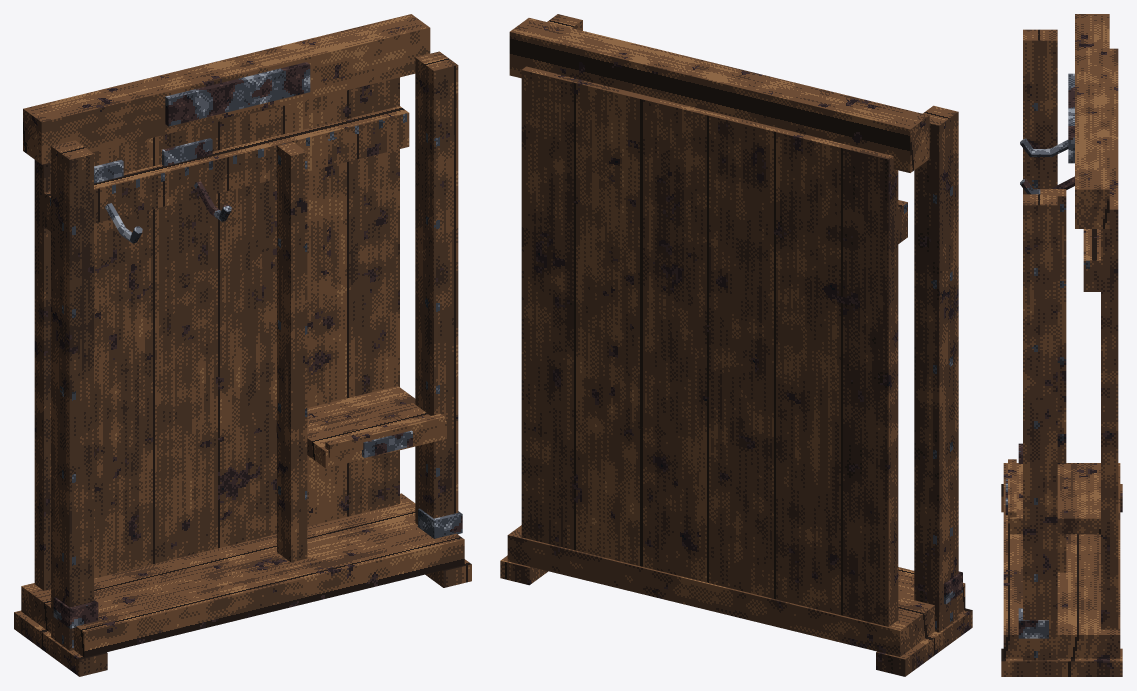
File: SM_Prop_LobbyToolStand_01.glb
The picture shows the model from 3 angles, left to right: view 1: azimuth 30°, elevation 25°; view 2: azimuth 150°, elevation 25°; view 3: azimuth 270°, elevation 25°; orthographic projection. The views are drawn at different scales.
Parts seen in each view (by area): view 1: back_boards, base_shelf, post_0, top_rail, post_1, divider_post, mount_board, bucket_shelf, iron_sign, skid_0, lip_rail, iron_foot_0 (+4 smaller); view 2: back_boards, post_0, top_rail, base_shelf, skid_0, skid_1; view 3: post_1, back_boards, base_shelf, top_rail, post_0, bucket_shelf, divider_post, skid_1, mount_board, iron_foot_1, iron_sign, lip_rail (+2 smaller).
Part boxes in pixels (<box>): back_boards: <box>34,77,399,590</box>; base_shelf: <box>21,493,464,657</box>; post_0: <box>51,140,93,650</box>; top_rail: <box>23,14,430,164</box>; post_1: <box>415,51,458,524</box>; divider_post: <box>277,142,307,562</box>; mount_board: <box>44,106,409,231</box>; bucket_shelf: <box>276,386,446,468</box>; iron_sign: <box>165,62,310,126</box>; skid_0: <box>14,610,107,676</box>; lip_rail: <box>325,413,444,457</box>; iron_foot_0: <box>53,597,98,628</box>; back_boards: <box>521,66,898,626</box>; post_0: <box>914,105,958,632</box>; top_rail: <box>509,18,929,172</box>; base_shelf: <box>507,525,965,656</box>; skid_0: <box>876,608,972,676</box>; skid_1: <box>500,555,547,585</box>; post_1: <box>1023,194,1057,660</box>; back_boards: <box>1101,48,1118,629</box>; base_shelf: <box>1003,463,1120,658</box>; top_rail: <box>1075,14,1109,228</box>; post_0: <box>1023,29,1057,194</box>; bucket_shelf: <box>1010,464,1100,534</box>; divider_post: <box>1040,189,1066,572</box>; skid_1: <box>1001,648,1122,676</box>; mount_board: <box>1083,229,1100,291</box>; iron_foot_1: <box>1018,608,1048,638</box>; iron_sign: <box>1068,73,1074,163</box>; lip_rail: <box>1008,459,1016,523</box>.
Bounding box in the file's own units: 1.52 × 1.94 × 0.4375.
Materials: 1 (1 with a texture image).
